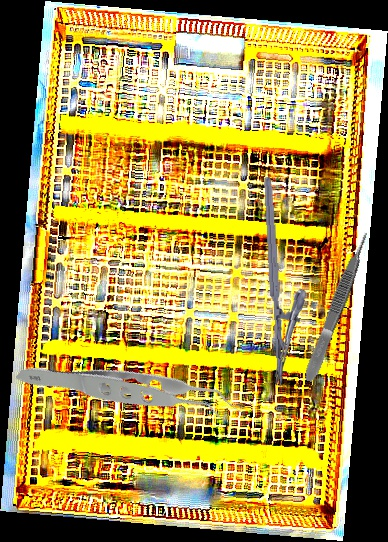Needle Holder: (263, 175, 311, 388)
Tissue Forceps: (14, 286, 243, 503), (300, 230, 375, 384)
